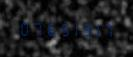five: (53, 19, 64, 36)
nine: (77, 20, 88, 37)
one: (65, 19, 76, 37), (89, 20, 100, 37)
seven: (29, 19, 40, 36), (101, 20, 112, 37)
six: (41, 19, 52, 36)
zero: (17, 19, 28, 36)
